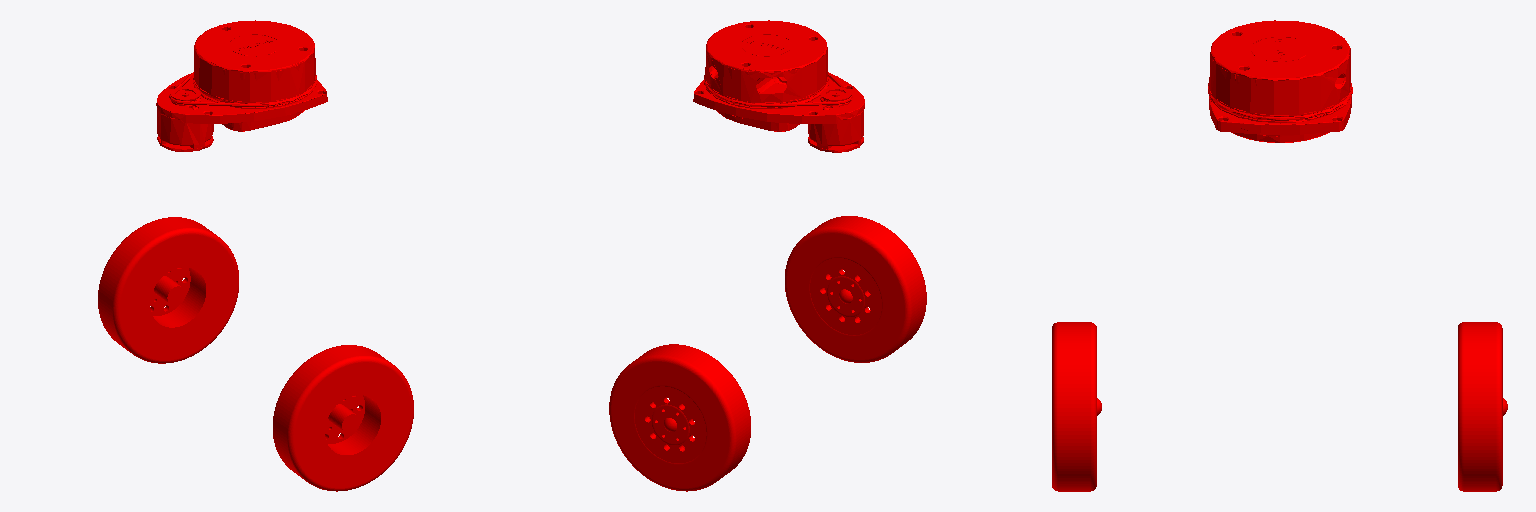
The robot description file, URDF, robot "neuronbot2_description":
<?xml version="1.0"?>
<robot
  name="neuronbot2_description">

  <!-- Color definition -->
  <material name="white">
    <color rgba="1 1 1 0.6"/>
  </material>

  <material name="black">
    <color rgba="0 0 0 0.7"/>
  </material>

  <material name="red">
    <color rgba="1 0 0 1"/>
  </material>

  <link name="base_footprint" />

  <link
    name="base_link">
    <inertial>
      <origin
        xyz="0 0 0"
        rpy="0 0 0" />
      <mass
        value="8.3" />
      <inertia
        ixx="5.249466E+13"
        ixy="-1.398065E+12"
        ixz="-3.158592E+12"
        iyy="5.786727E+13"
        iyz="-5.159120E+11"
        izz="3.114993E+13" />
    </inertial>
    <visual>
      <origin
        xyz="0 0 0"
        rpy="0 3.1415 3.1415" />
      <geometry>
        <mesh
          filename="package://neuronbot2_description/meshes/neuronbot2/base_link.stl" scale="0.001 0.001 0.001"/>
      </geometry>
      <material name="black"/>
    </visual>
    <collision>
      <origin
        xyz="0 0 0.125"
        rpy="0 0 0" />
      <geometry>
          <box size="0.25 0.25 0.25" />
      </geometry>
      <material name="black"/>
    </collision>
  </link>

  <link
    name="laser_frame">
    <inertial>
      <origin
        xyz="0 0 0"
        rpy="0 0 0" />
      <mass
        value="0.362" />
      <inertia
        ixx="2.634758E+07"
        ixy="1.854066E+05"
        ixz="-2.027321E+07"
        iyy="6.138498E+07"
        iyz="-8.570560E+04"
        izz="5.234910E+07" />
    </inertial>
    <visual>
      <origin
        xyz="0 0 0"
        rpy="0 0 0" />
      <geometry>
        <mesh
          filename="package://neuronbot2_description/meshes/neuronbot2/laser_link.stl" scale="0.001 0.001 0.001"/>
      </geometry>
      <material name="red"/>
    </visual>
    <collision>
      <origin
        xyz="0 0 0"
        rpy="0 0 0" />
      <geometry>
        <mesh
          filename="package://neuronbot2_description/meshes/neuronbot2/laser_link.stl" scale="0.001 0.001 0.001"/>
      </geometry>
      <material name="red"/>
    </collision>
  </link>

  <link name="imu_link"/>

  <link name="wheel_right_link">
    <visual>
      <origin xyz="0 0 0" rpy="0 0 0"/>
      <geometry>
        <mesh
          filename="package://neuronbot2_description/meshes/neuronbot2/wheel_link.stl" scale="0.001 0.001 0.001"/>
      </geometry>
      <material name="red"/>
    </visual>
    <collision>
      <origin xyz="0 0 0" rpy="0 0 0"/>
      <geometry>
        <mesh
          filename="package://neuronbot2_description/meshes/neuronbot2/wheel_link.stl" scale="0.001 0.001 0.001"/>
      </geometry>
      <material name="red"/>
    </collision>
  </link>

  <link name="wheel_left_link">
    <visual>
      <origin xyz="0 0 0" rpy="0 0 0"/>
      <geometry>
        <mesh
          filename="package://neuronbot2_description/meshes/neuronbot2/wheel_link.stl" scale="0.001 0.001 0.001"/>
      </geometry>
      <material name="red"/>
    </visual>
    <collision>
      <origin xyz="0 0 0" rpy="0 0 0"/>
      <geometry>
        <mesh
          filename="package://neuronbot2_description/meshes/neuronbot2/wheel_link.stl" scale="0.001 0.001 0.001"/>
      </geometry>
      <material name="red"/>
    </collision>  
  </link>

  <joint name="base_link_joint" type="fixed">
    <parent link="base_footprint"/>
    <child link="base_link"/>
    <origin xyz="0 0 0" rpy="0 0 0"/>
  </joint>

  <joint name="laser_frame_joint" type="fixed">
    <origin
      xyz="0 0 0.205"
      rpy="0 0 0" />
    <parent link="base_link" />
    <child link="laser_frame" />
    <axis xyz="0 0 0" />
  </joint>

  <joint name="imu_joint" type="fixed">
    <parent link="base_link"/>
    <child link="imu_link"/>
    <origin rpy="0 0 0" xyz="0 0 -0.05"/>
    <axis xyz="0 0 0" />
  </joint>
  
  <joint name="r_wheel_joint" type="continuous">
    <parent link="base_link"/>
    <child link="wheel_right_link"/>
    <origin xyz="0.0 -0.09 0.0415" rpy="0 0 0"/>
    <axis xyz="0 1 0"/>
  </joint>

  <joint name="l_wheel_joint" type="continuous">
    <parent link="base_link"/>
    <child link="wheel_left_link"/>
    <origin xyz="0.0 0.109 0.0415" rpy="0 0 0"/>
    <axis xyz="0 1 0"/>
  </joint>

  <!-- camera -->
  <joint name="camera_joint" type="fixed">
    <origin xyz="0.175 0.0 0.181" rpy="0 0 0"/>
    <parent link="base_link"/>
    <child link="camera_link"/>
  </joint>
  <link name="camera_link">
    <collision>
      <origin xyz="0.003 0.065 0.007" rpy="0 0 0"/>
      <geometry>
        <box size="0.012 0.132 0.020"/>
      </geometry>
    </collision>
  </link>
  <joint name="camera_color_joint" type="fixed">
    <origin xyz="0 0 0" rpy="0 0 0"/>
    <parent link="camera_link"/>
    <child link="camera_color_frame"/>
  </joint>
  <link name="camera_color_frame">
  </link>
  <joint name="camera_color_optical_joint" type="fixed">
    <origin xyz="0 0 0" rpy="-1.57 0 -1.57"/>
    <parent link="camera_color_frame"/>
    <child link="camera_color_optical_frame"/>
  </joint>
  <link name="camera_color_optical_frame">
  </link>
  <joint name="camera_depth_joint" type="fixed">
    <origin xyz="0 0 0" rpy="0 0 0"/>
    <parent link="camera_link"/>
    <child link="camera_depth_frame"/>
  </joint>
  <link name="camera_depth_frame">
  </link>
    <joint name="camera_depth_optical_joint" type="fixed">
    <origin xyz="0 0 0" rpy="-1.57 0 -1.57"/>
    <parent link="camera_depth_frame"/>
    <child link="camera_depth_optical_frame"/>
  </joint>      
  <link name="camera_depth_optical_frame">
  </link>
  
</robot>

--- What the picture shows (computed from the rendered views, not written in the file) ---
The picture shows the robot from 3 angles, left to right: view 1: azimuth 30°, elevation 25°; view 2: azimuth 150°, elevation 25°; view 3: azimuth 270°, elevation 25°; orthographic projection.
Robot: neuronbot2_description — 11 links, 10 joints (2 continuous, 8 fixed); root link base_footprint; default pose: every joint at zero.
Links seen in each view (by area): view 1: wheel_left_link, wheel_right_link, laser_frame; view 2: wheel_right_link, wheel_left_link, laser_frame; view 3: laser_frame, wheel_right_link, wheel_left_link.
Link boxes in pixels (box(x1,y1,x2,y2)): wheel_left_link: box(98, 217, 238, 363); wheel_right_link: box(273, 345, 413, 491); laser_frame: box(156, 20, 327, 151); wheel_right_link: box(785, 216, 926, 362); wheel_left_link: box(609, 344, 750, 491); laser_frame: box(693, 20, 864, 152); laser_frame: box(1208, 20, 1352, 142); wheel_right_link: box(1052, 322, 1101, 491); wheel_left_link: box(1458, 322, 1507, 491).
Bounding box of the posed robot: 0.1031 × 0.2237 × 0.235 m (x, y, z).
3 mesh visuals loaded from 3 distinct referenced files (2 binary STL); not drawn: 1 (reference not matched to a file when rendering).